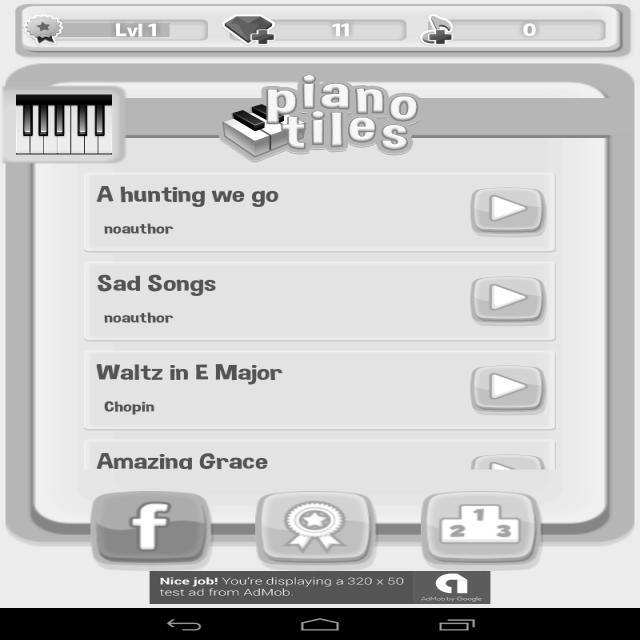ImageView: (148, 568, 507, 608), (416, 498, 562, 560), (9, 83, 118, 161), (257, 494, 377, 560), (97, 490, 212, 557), (463, 268, 549, 326), (463, 361, 553, 415), (463, 189, 553, 233), (212, 9, 278, 58), (14, 13, 69, 51), (414, 9, 455, 49)
TextView: (79, 177, 294, 240), (247, 76, 428, 148), (91, 345, 286, 389), (97, 445, 290, 481), (91, 271, 228, 295), (91, 15, 171, 40), (510, 18, 572, 50), (308, 14, 362, 46), (93, 310, 193, 326), (96, 400, 194, 414)
